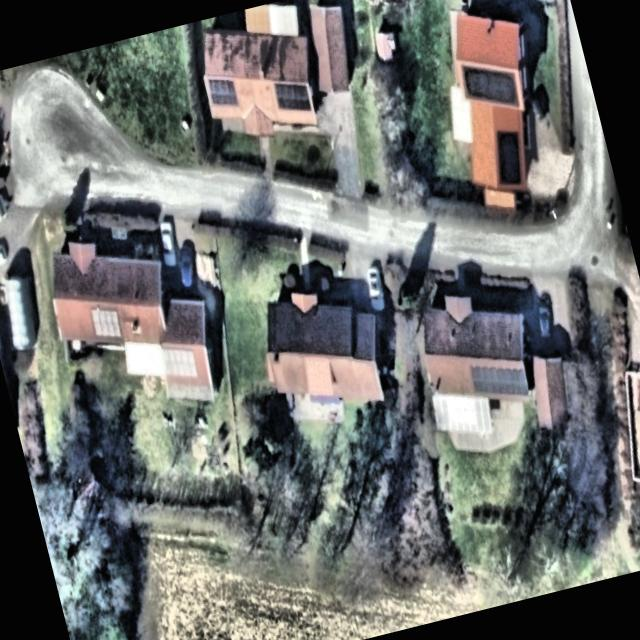roof_pv: (454, 45, 526, 124), (462, 348, 534, 412), (484, 118, 532, 194), (270, 71, 321, 123), (85, 298, 132, 347), (158, 338, 202, 386), (204, 68, 244, 118)
